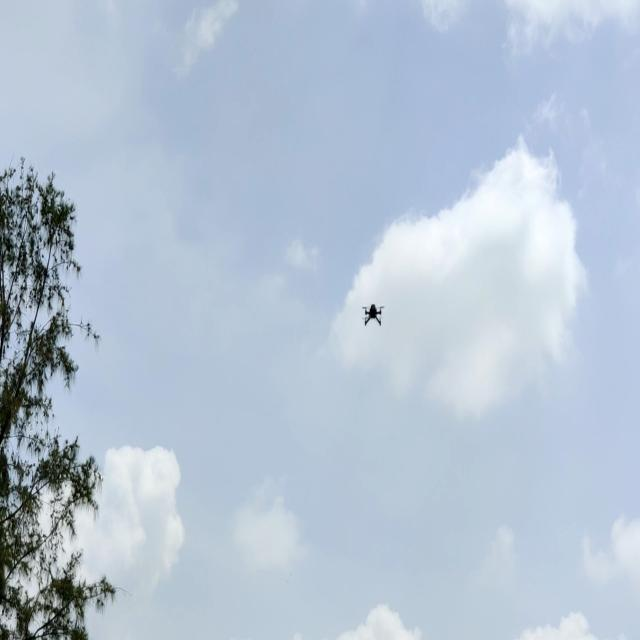drone: (358, 304, 389, 332)
